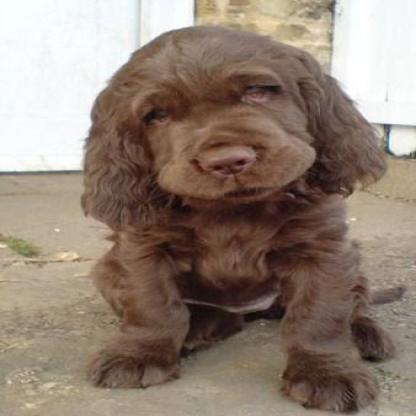Sussex_spaniel: (57, 17, 396, 414)
